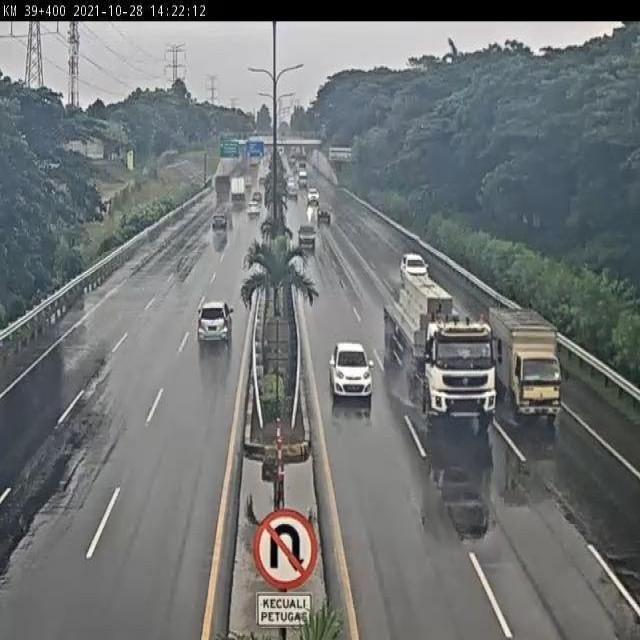car: (328, 340, 373, 401), (195, 300, 235, 349), (401, 254, 431, 282), (210, 208, 229, 235)
truck-s-: (488, 305, 564, 424)
truck-xl-: (383, 280, 497, 425)
